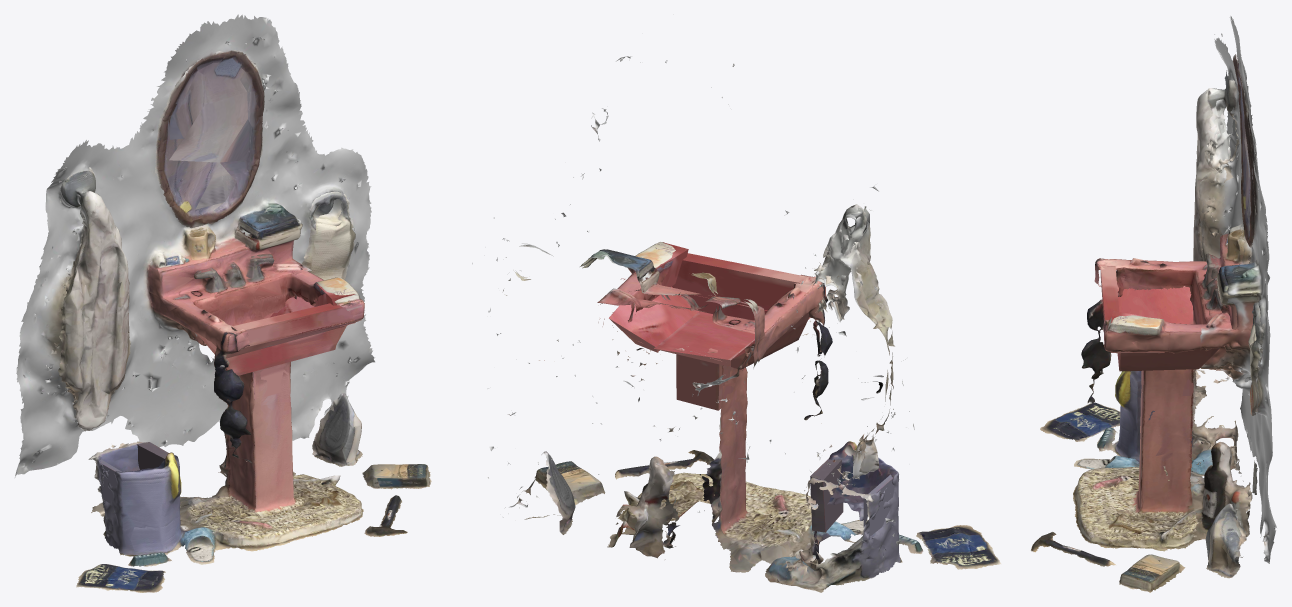
File: kristina2.glb
The picture shows the model from 3 angles, left to right: view 1: azimuth 30°, elevation 25°; view 2: azimuth 150°, elevation 25°; view 3: azimuth 270°, elevation 25°; orthographic projection. The views are drawn at different scales.
Parts seen in each view (by area): view 1: mmGroup0, mmGroup0.001, Cube; view 2: mmGroup0, Cube, mmGroup0.001; view 3: mmGroup0, mmGroup0.001, Cube.
Boxes of the visible parts, x1,y1,x2,y2 form: mmGroup0: (58,50,431,592); mmGroup0.001: (15,14,374,477); Cube: (97,283,361,503); mmGroup0: (503,204,1000,592); Cube: (609,242,894,537); mmGroup0.001: (472,14,914,545); mmGroup0: (1031,54,1264,592); mmGroup0.001: (1199,16,1276,563); Cube: (1100,266,1219,413).
Size of the model in its own units: 17.24 by 19.95 by 9.21.
3 materials, 3 textured.
